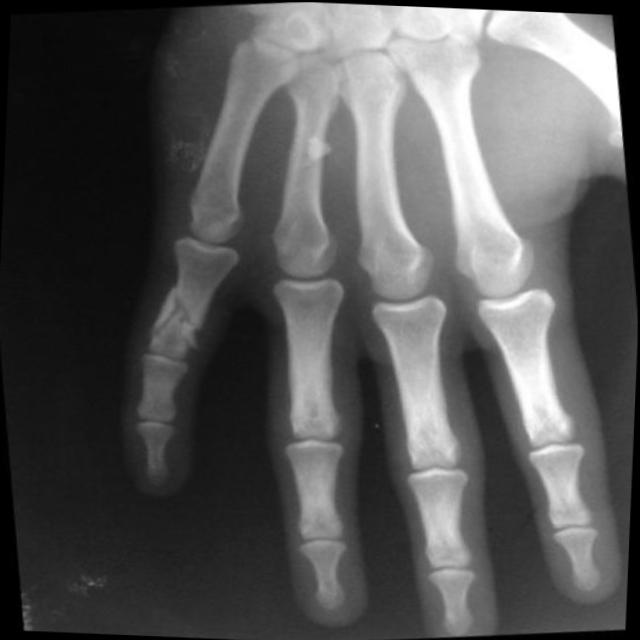Comminuted: (129, 295, 207, 362)
